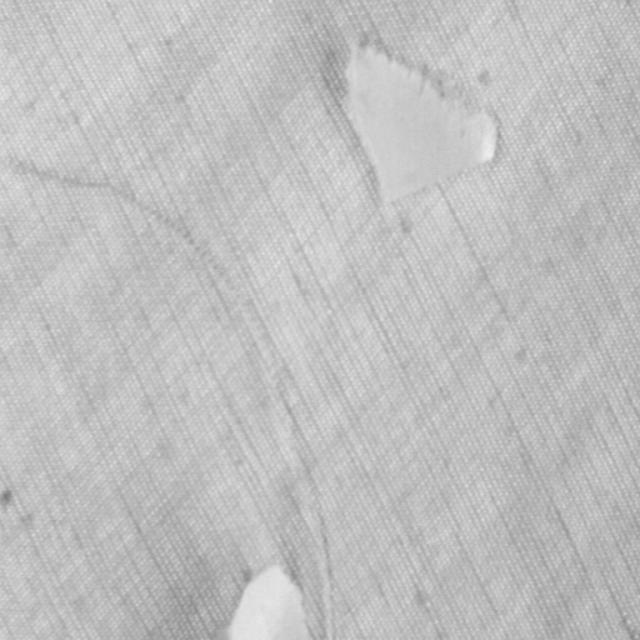objects: (0, 150, 347, 638), (340, 34, 503, 214), (211, 559, 316, 639)
